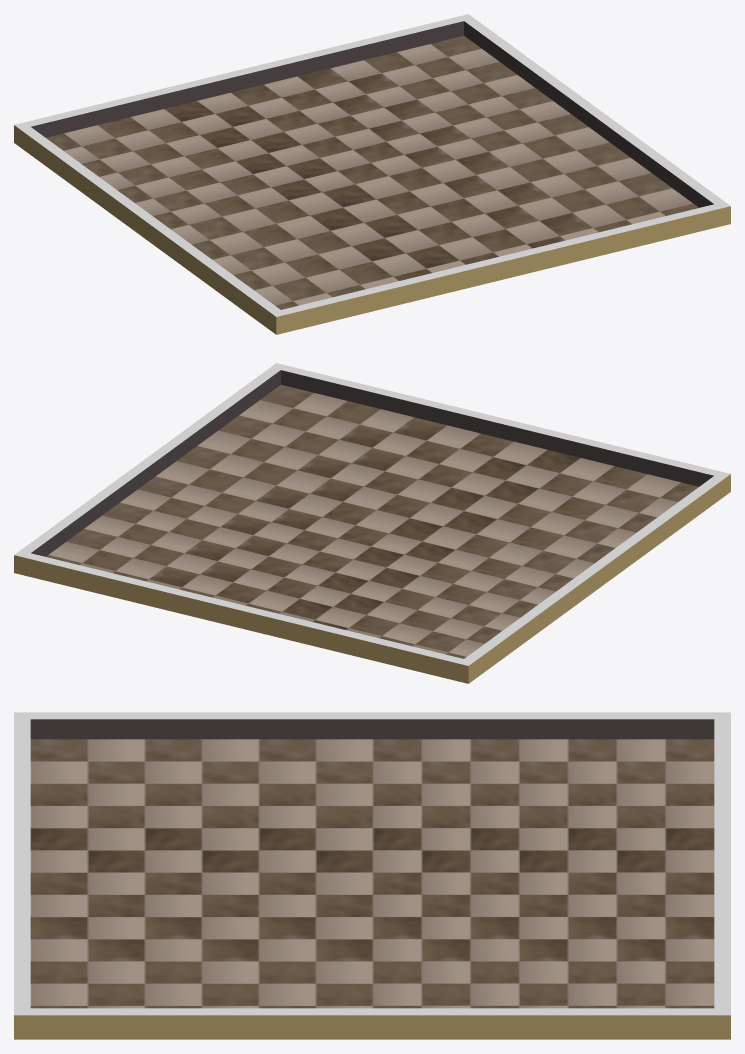
Rendered from battleground.glb.
3 renders of one model, top to bottom at view 1: azimuth 30°, elevation 25°; view 2: azimuth 150°, elevation 25°; view 3: azimuth 270°, elevation 25°, orthographic. The views are drawn at different scales.
Parts seen in each view (by area): view 1: Cube; view 2: Cube; view 3: Cube.
Part boxes in pixels (<box>): Cube: <box>14,14,730,334</box>; Cube: <box>14,363,730,683</box>; Cube: <box>14,712,730,1039</box>.
Size of the model in its own units: 14.6 by 0.55 by 14.6.
Materials: 5 (1 with a texture image).
